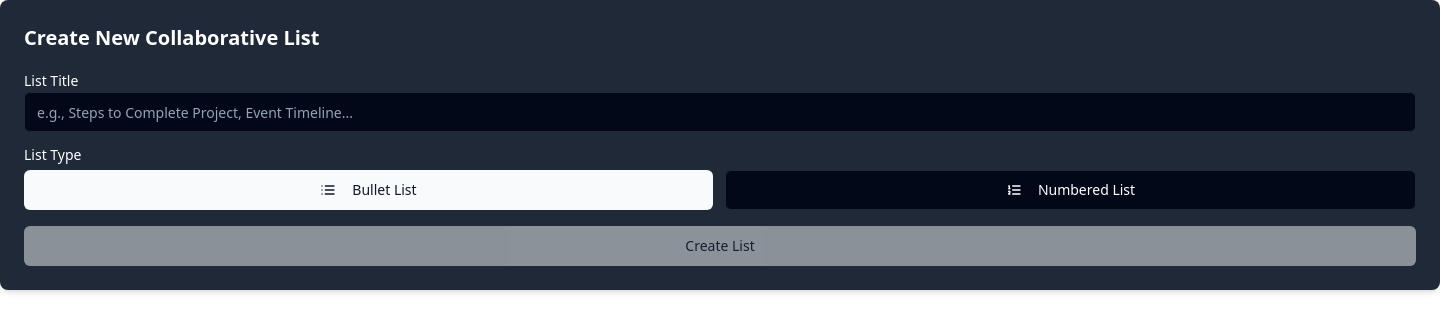
ListCreatorForm › should show loading state while creating
The image size is (1440, 311).
Type "Test List" into the field labelled "List Title" at (720, 112), box [24,92,1416,132]
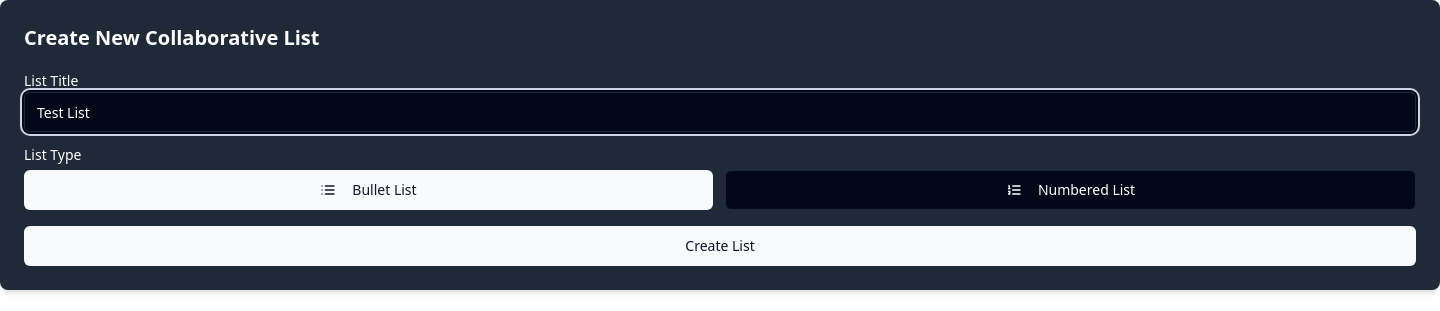
Click the button "Create List" at (720, 246), box [24,226,1416,266]
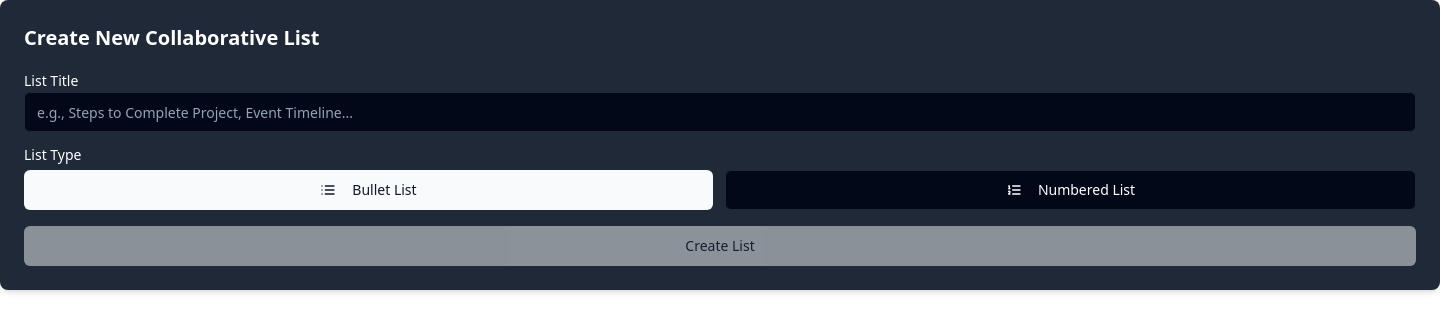
Now the button "creating" is disabled, box [24,226,1416,266]
